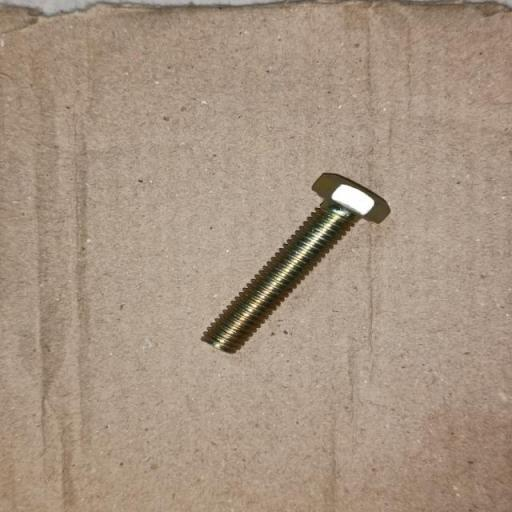Bolt: (201, 172, 392, 355)
